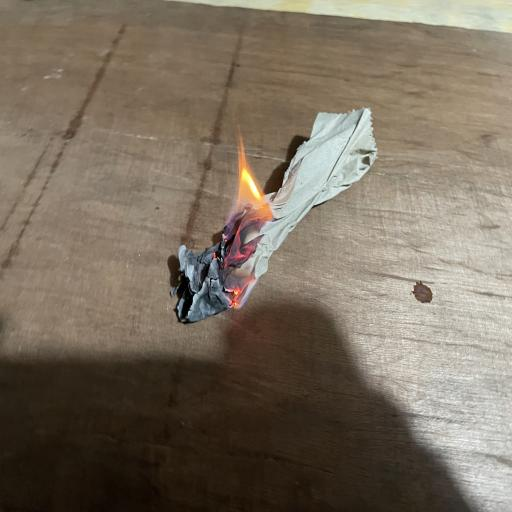fire: (220, 127, 273, 270), (181, 147, 213, 245), (265, 135, 308, 193), (224, 274, 255, 308)
